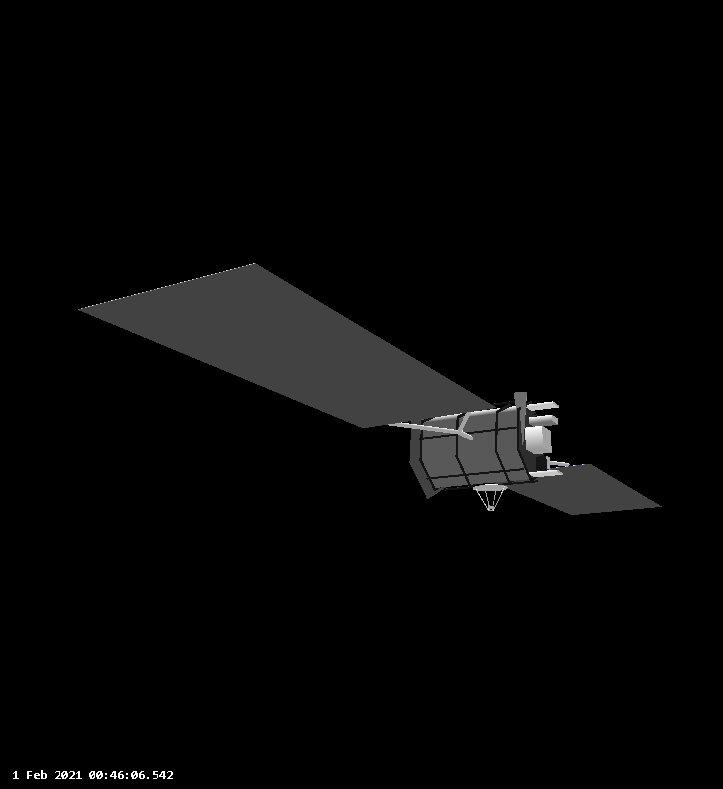antenna: (467, 478, 513, 515)
body: (401, 384, 568, 503)
solar: (75, 253, 497, 432), (498, 460, 664, 520)
thruster: (509, 387, 531, 408)
